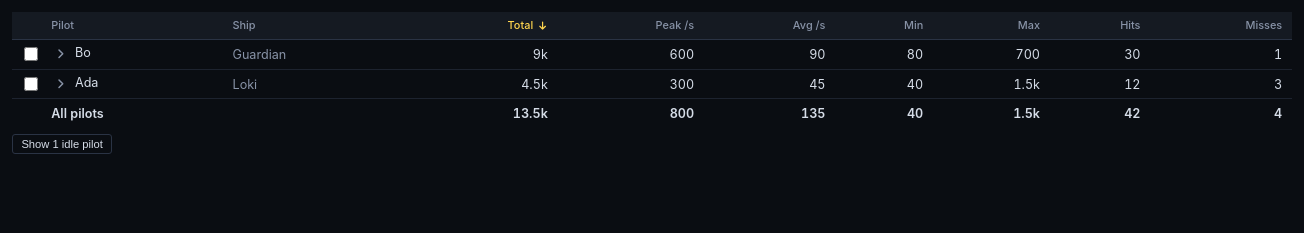
StatsTable › expanding a row loads that pilot's breakdown for the range
The width and height of the screenshot is (1304, 233).
Step 1. Click the button named "Show breakdown for Ada" → coordinates (61, 84), box [51, 74, 71, 94]
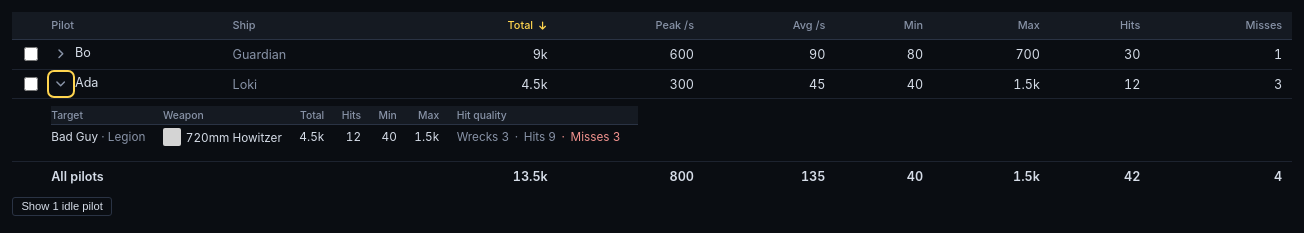
Result: the table with test id "breakdown-1" shows "Bad Guy" at [51, 130, 98, 144]
Result: the table with test id "breakdown-1" shows "720mm Howitzer" at [186, 131, 282, 145]
Result: the table with test id "breakdown-1" shows "Wrecks 3" at [51, 106, 638, 148]
